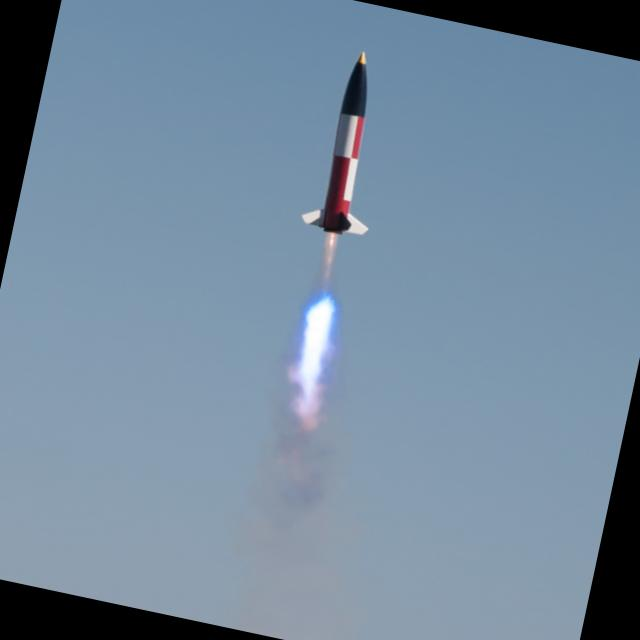rocket: (269, 37, 397, 397)
